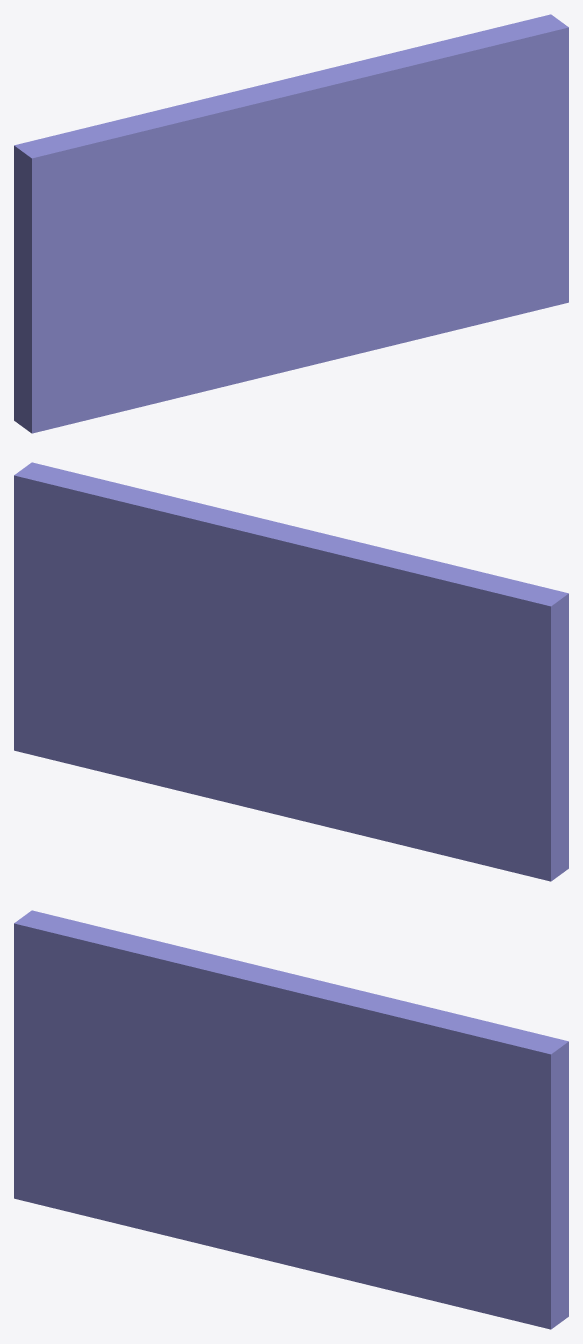
File: fence_1_bkstate_a.DAE
The picture shows the model from 3 angles, top to bottom: view 1: azimuth 30°, elevation 25°; view 2: azimuth 150°, elevation 25°; view 3: azimuth 330°, elevation 25°; orthographic projection.
Visible parts, largest first — view 1: bounds; view 2: bounds; view 3: bounds.
Boxes of the visible parts, x1=… form: bounds: x1=14, y1=14, x2=568, y2=433; bounds: x1=14, y1=462, x2=568, y2=881; bounds: x1=14, y1=910, x2=568, y2=1329.
Bounding box in the file's own units: 4.33 × 0.25 × 2.12.
